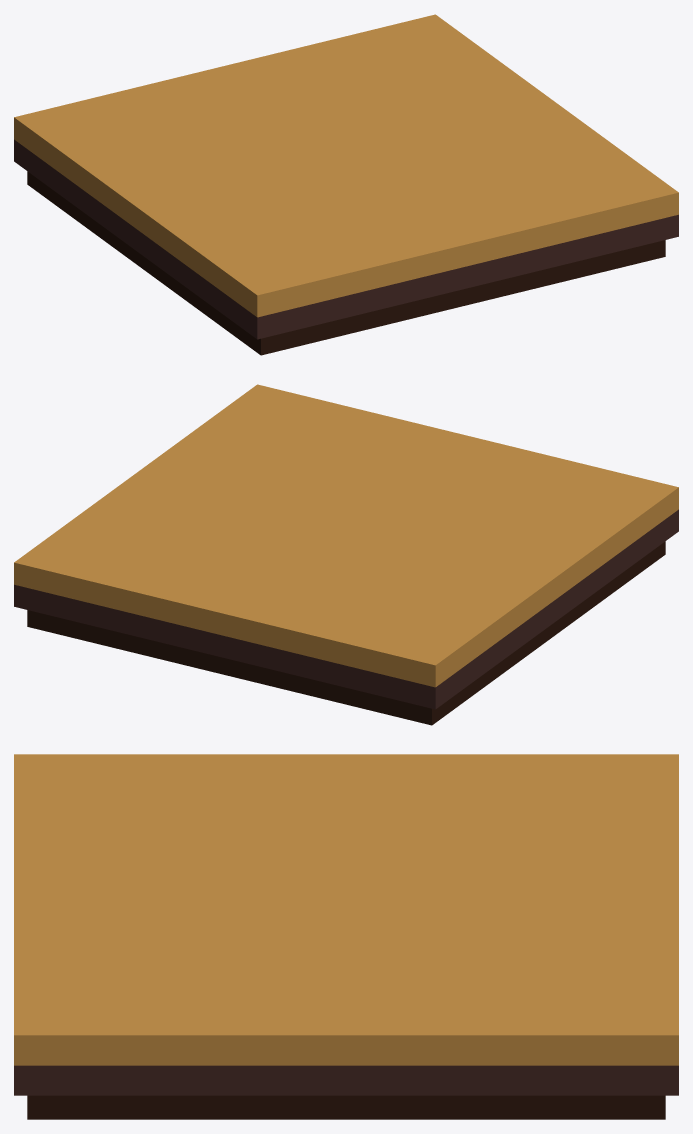
The model's file is Tile_Dirt_Simple.fbx.
The picture shows the model from 3 angles, top to bottom: view 1: azimuth 30°, elevation 25°; view 2: azimuth 150°, elevation 25°; view 3: azimuth 270°, elevation 25°; orthographic projection. The views are drawn at different scales.
Visible parts, largest first — view 1: Tile_Dirt_Simple; view 2: Tile_Dirt_Simple; view 3: Tile_Dirt_Simple.
Boxes of the visible parts, <box> form: Tile_Dirt_Simple: <box>14,14,678,355</box>; Tile_Dirt_Simple: <box>14,384,678,725</box>; Tile_Dirt_Simple: <box>14,754,678,1119</box>.
Size of the model in its own units: 100 by 14.9 by 100.
